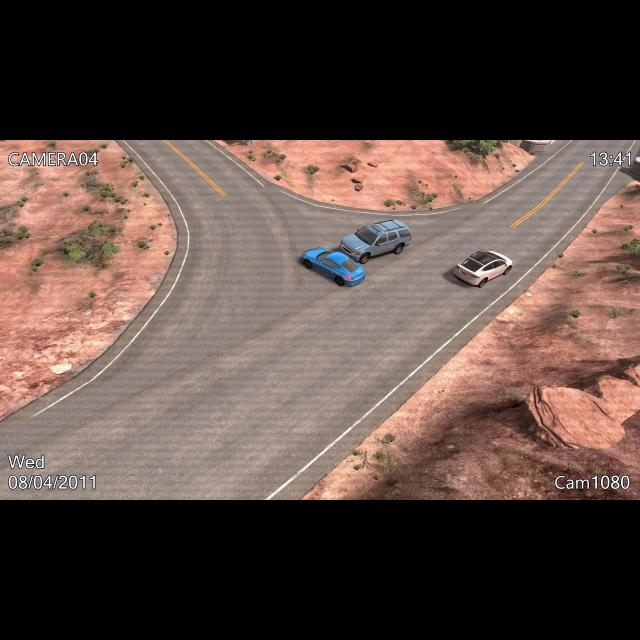accident: (292, 220, 420, 287)
